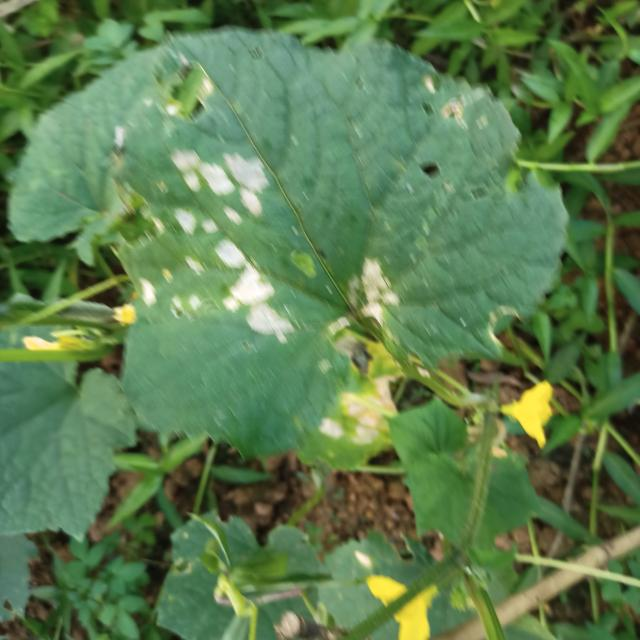disease_cucumber: (146, 136, 299, 354), (334, 247, 406, 328)
